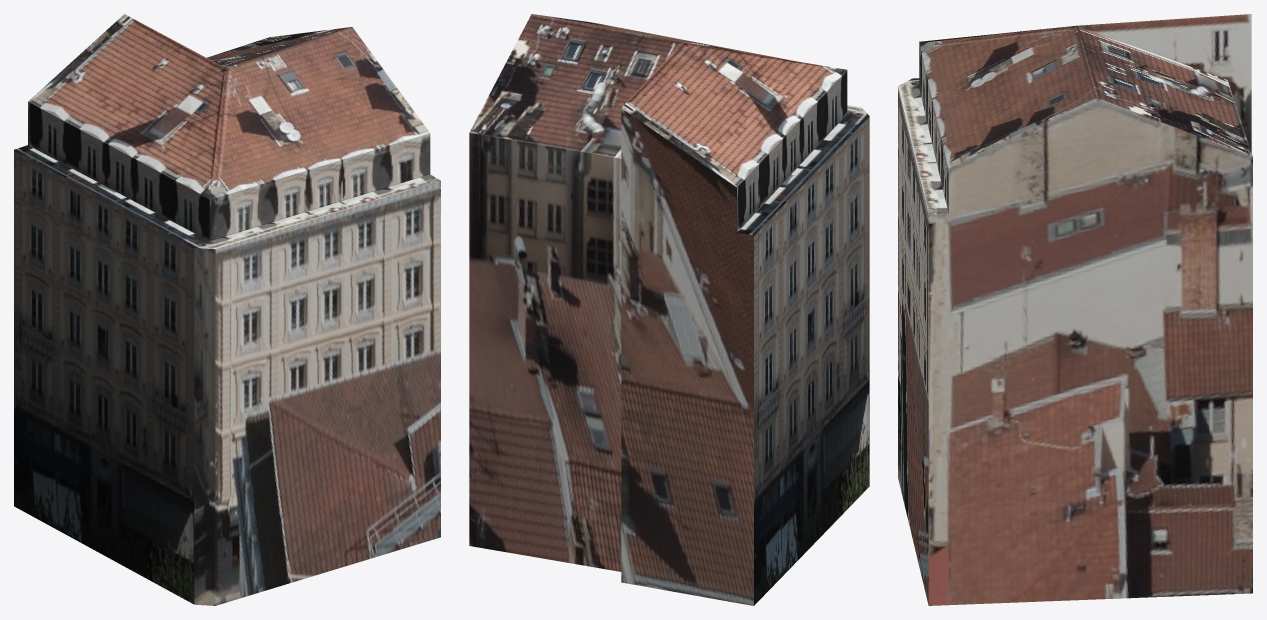
3 views of the same model, side by side, from view 1: azimuth 30°, elevation 25°; view 2: azimuth 150°, elevation 25°; view 3: azimuth 270°, elevation 25° (orthographic). The views are drawn at different scales.
Parts seen in each view (by area): view 1: Z_UP; view 2: Z_UP; view 3: Z_UP.
Boxes of the visible parts, box(x1,y1,x2,y2) form: Z_UP: box(14, 14, 440, 605); Z_UP: box(469, 14, 869, 605); Z_UP: box(898, 14, 1252, 605).
Size of the model in its own units: 17.82 by 27.01 by 17.31.
2 materials, 1 textured.
